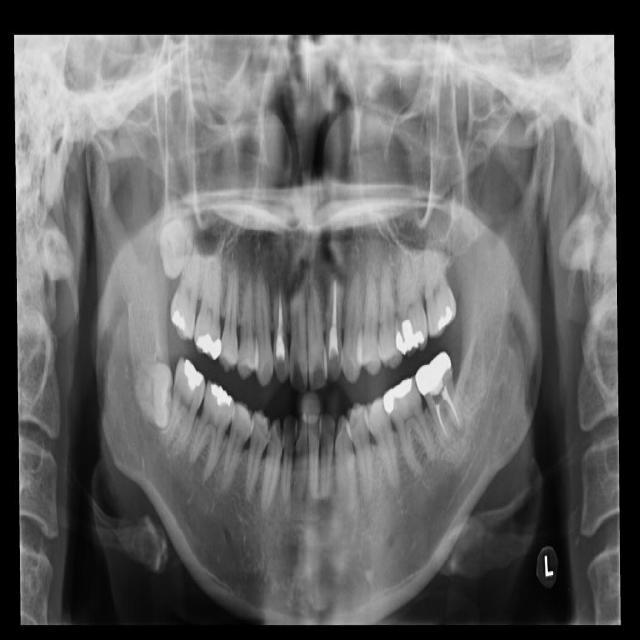3M ESPE Implant: (152, 211, 199, 284)
52: (412, 282, 469, 343), (374, 371, 434, 428), (161, 355, 218, 409), (408, 350, 463, 401), (194, 377, 246, 425), (393, 308, 431, 360), (169, 290, 197, 343), (193, 313, 222, 362), (324, 331, 344, 384), (270, 339, 292, 384)
73: (418, 370, 470, 448), (269, 250, 289, 350), (325, 254, 348, 339), (614, 610, 624, 616)
BioHorizons Implant: (418, 210, 459, 340)
Blue Sky Bio Implant: (410, 350, 470, 451)
Caries: (164, 226, 210, 344)
Implant: (160, 355, 211, 457)
Keystone Dental Implant: (130, 355, 173, 429)
